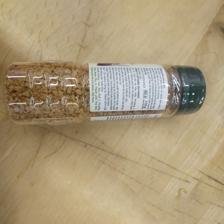TayNinh_green: (2, 60, 206, 124)
